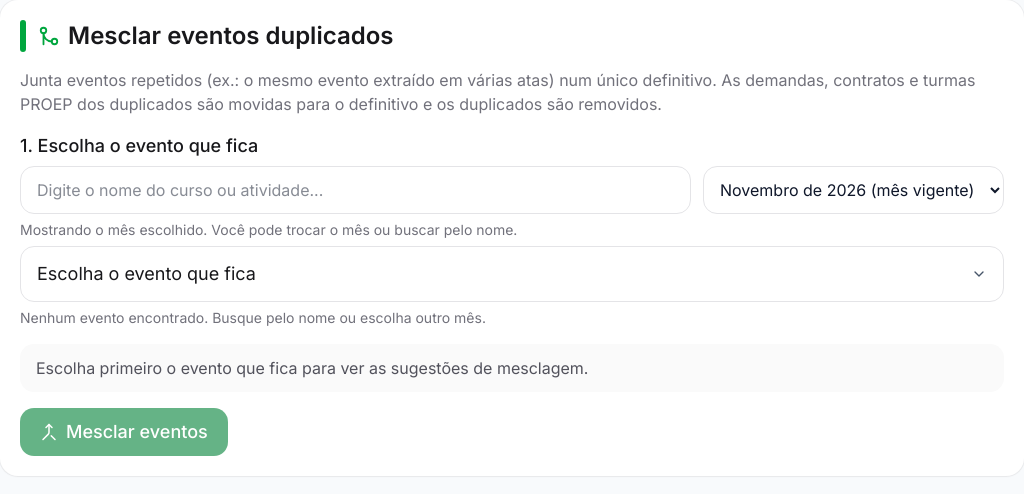
Test: escolha do evento definitivo para mesclar › permite escolher outro mês quando o vigente está sem atividades
Expected: the text "Nenhum evento encontrado" is shown, [20,309,486,326]
Select "Janeiro de 2027" in the dropdown named "Mês do evento definitivo" at (854, 190), box [703,166,1004,214]
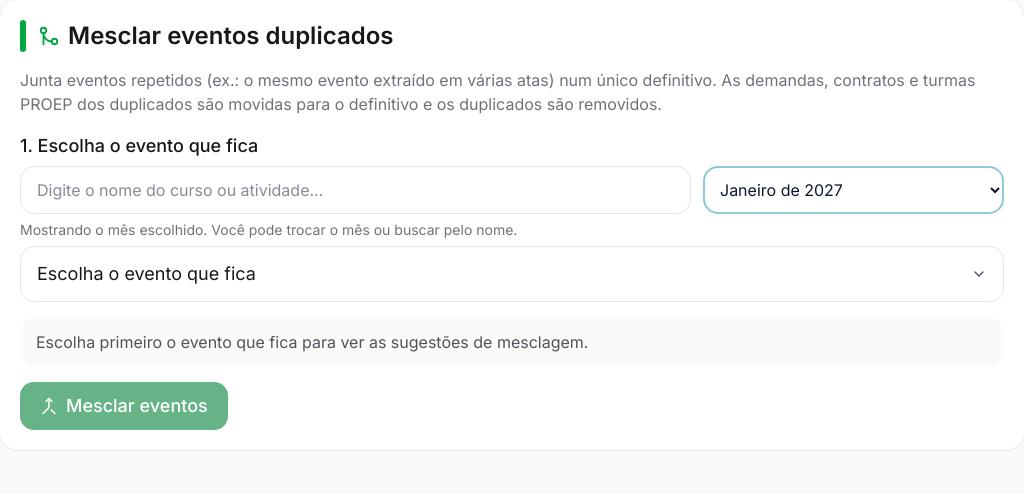
Click the dropdown named "Escolha o evento definitivo" at (146, 274), box [20,246,1004,302]
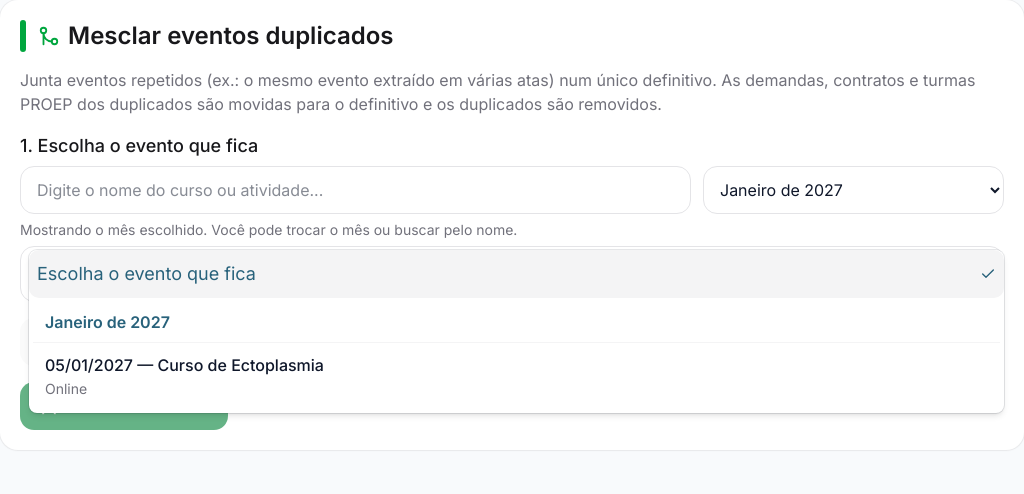
Expected: the option "05/01/2027 — Curso de Ectoplasmia Online" is shown, [45,355,324,397]
